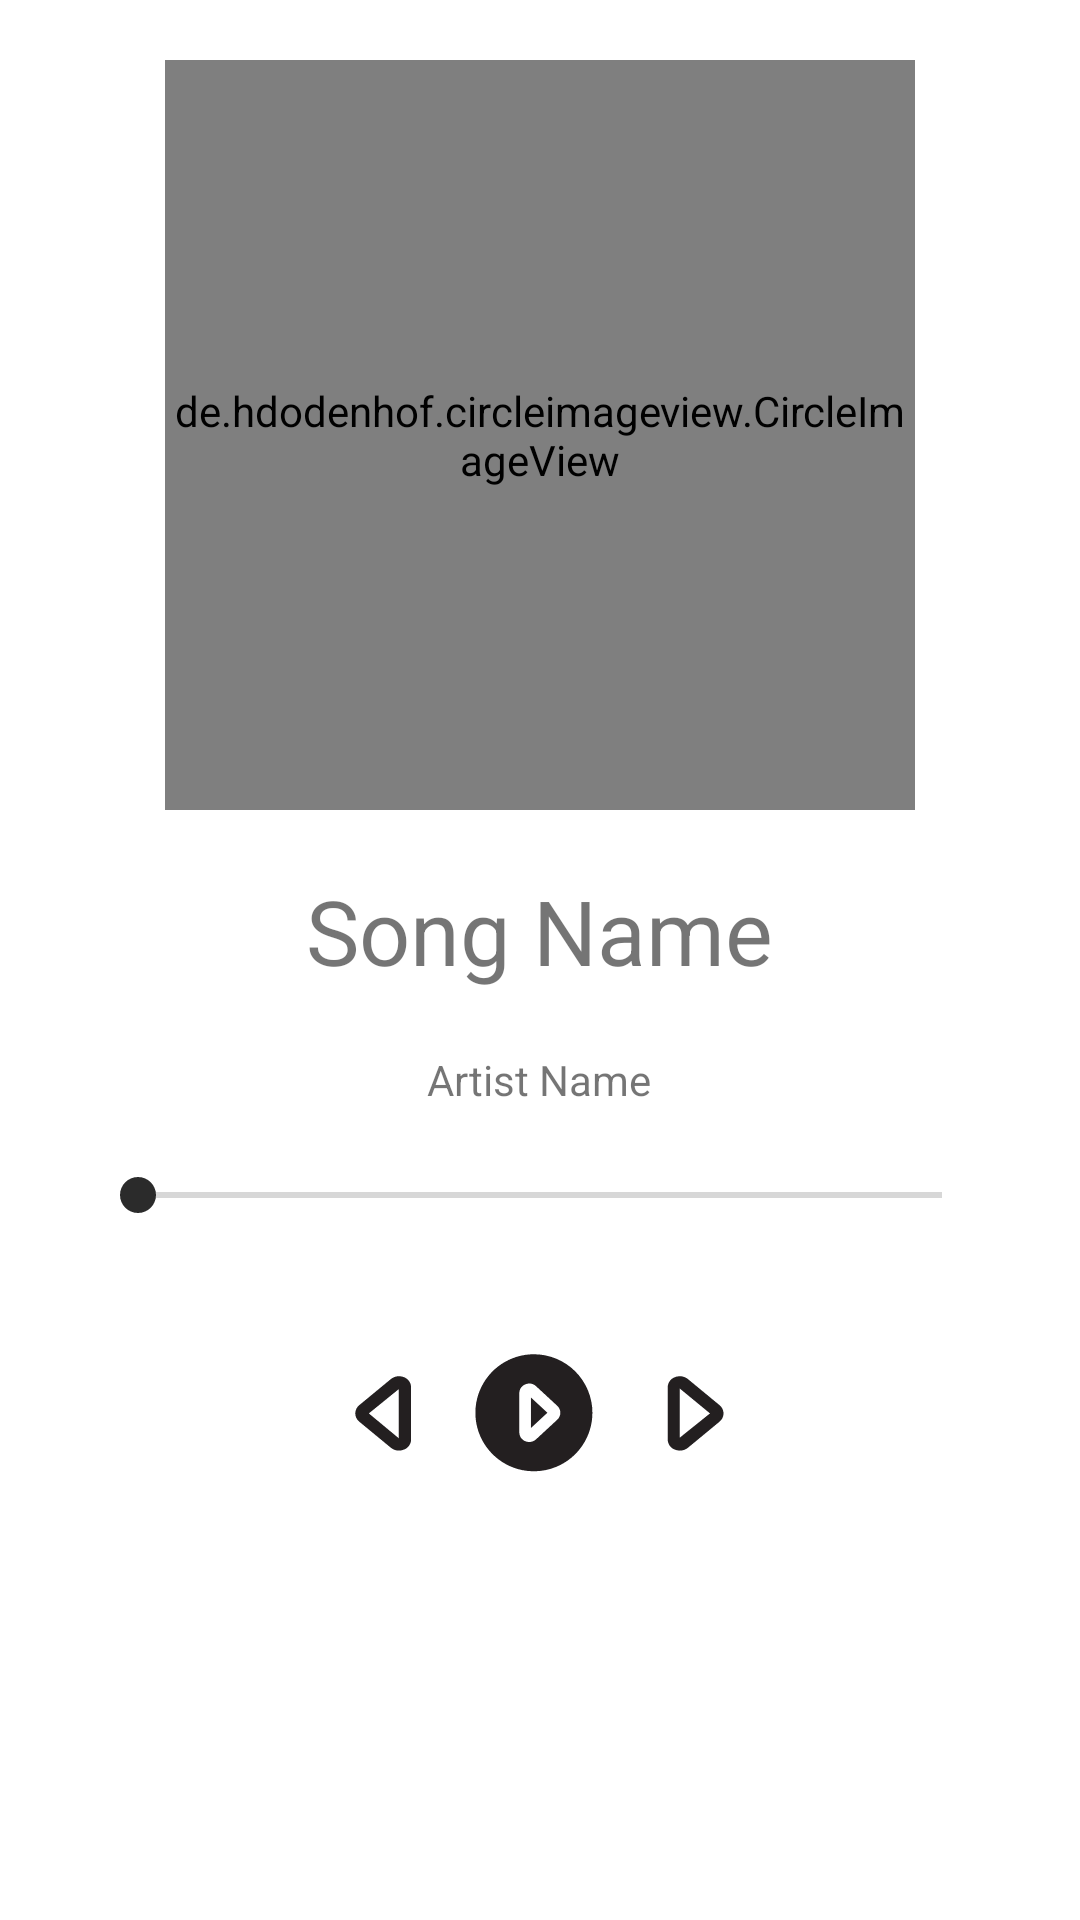

Icons on this 1080*1920 Android screen, each with its box as BBox(x1, y1, x2, y2):
next: BBox(667, 1376, 724, 1451)
play: BBox(475, 1354, 593, 1472)
previous: BBox(355, 1376, 411, 1451)
